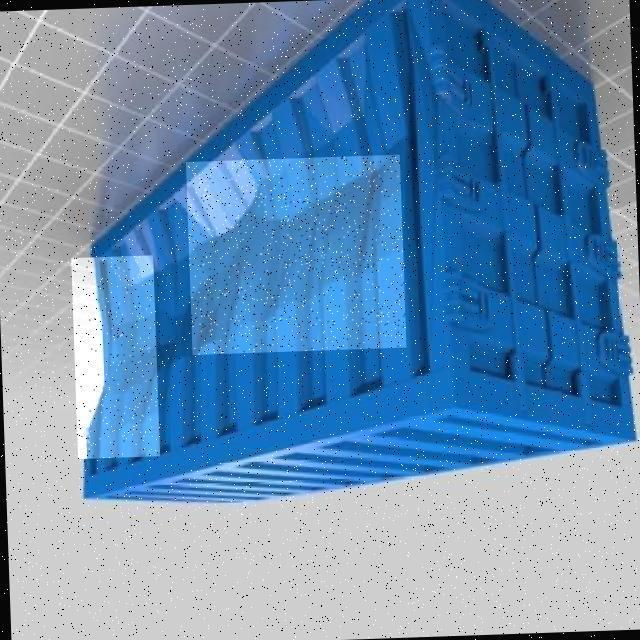dent: (186, 156, 407, 356), (69, 256, 160, 460)
